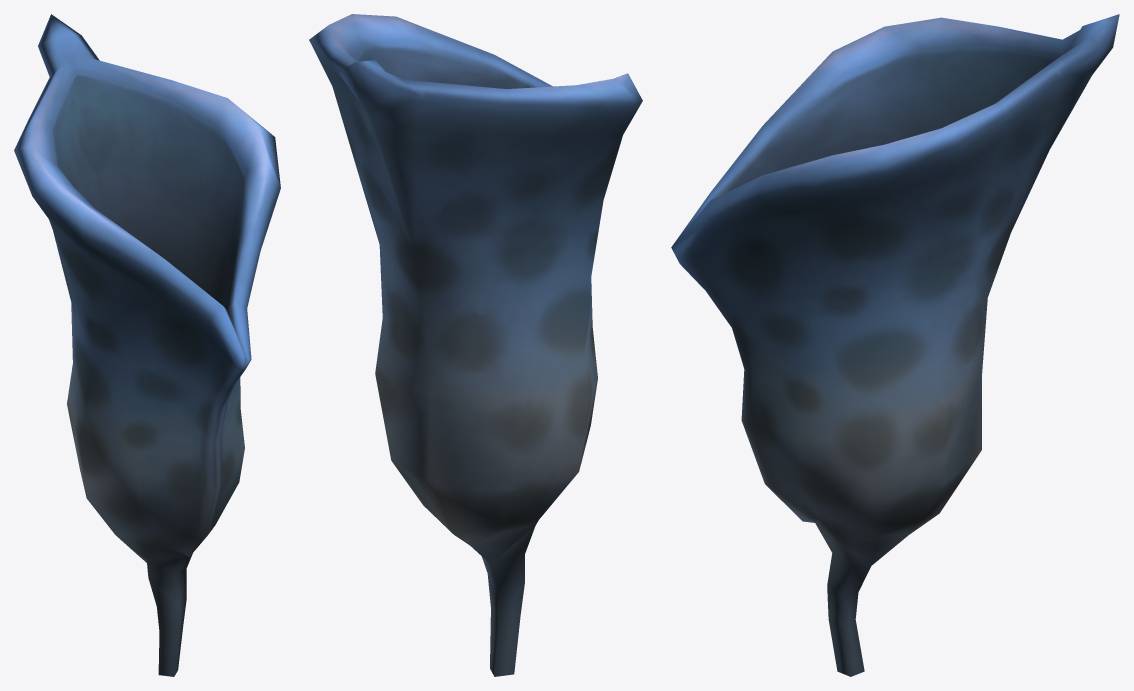
File: utsup.fbx
3 views of the same model, side by side, from view 1: azimuth 30°, elevation 25°; view 2: azimuth 150°, elevation 25°; view 3: azimuth 270°, elevation 25° (orthographic). The views are drawn at different scales.
Parts seen in each view (by area): view 1: utsup_Mesh_001; view 2: utsup_Mesh_001; view 3: utsup_Mesh_001.
Part boxes in pixels (box(x1,y1,x2,y2)): utsup_Mesh_001: box(14, 14, 280, 676); utsup_Mesh_001: box(309, 14, 642, 676); utsup_Mesh_001: box(671, 14, 1119, 676).
Bounding box in the file's own units: 27.2 × 61.32 × 37.91.
